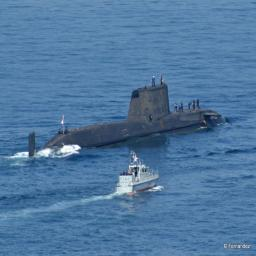submarine: (28, 84, 232, 158)
